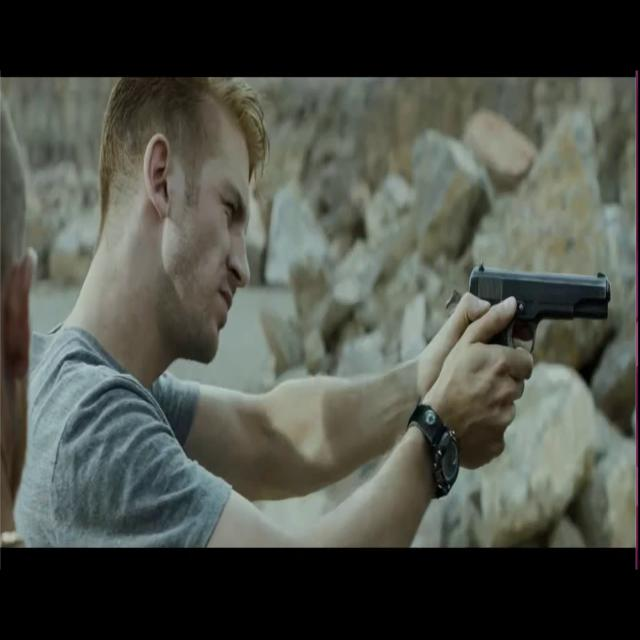weapons: (440, 250, 618, 390)
